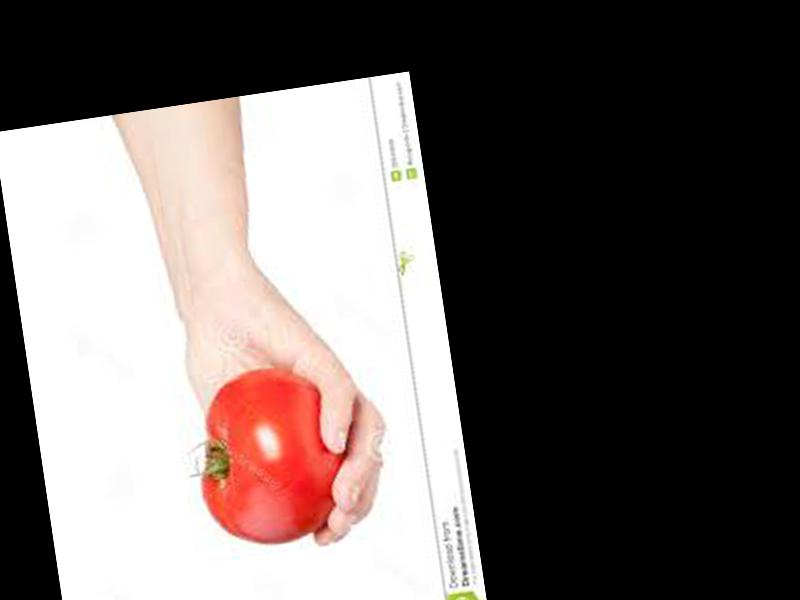Tomato: (183, 357, 356, 554)
